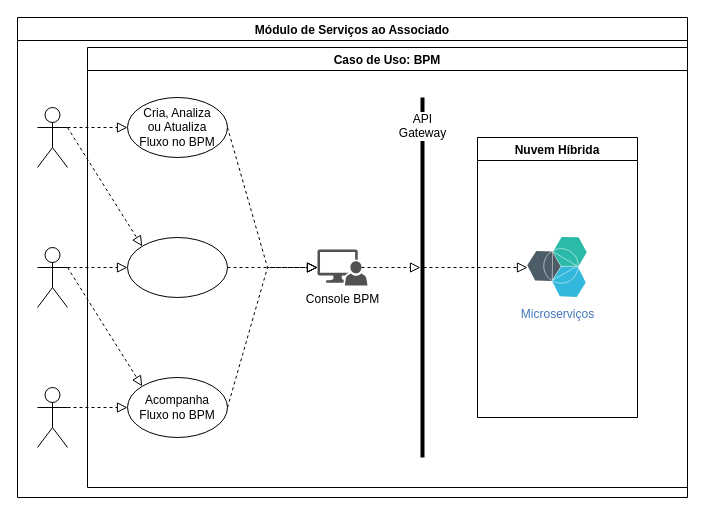
Some shapes in this 705 by 515 pixel diagram are drawn without their labels. The centre of each missing label's shape, as x and y in pixels:
"Admin" belongs at (52,137).
"Executa Fluxo no BPM" belongs at (177,267).
"Operator" belongs at (52,277).
"User" belongs at (52,417).
